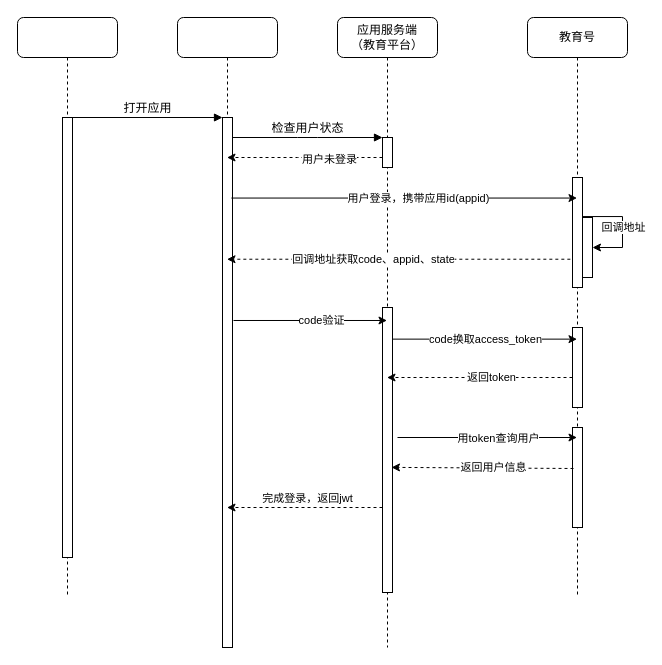
Some shapes in this 662 by 665 pixel diagram are drawn without their labels. The shapes that lost their labels are listed below. From the top down, each one's box as (x1, y1, x2, y2) in pixels, then its label:
(16, 16, 118, 598): 用户
(176, 16, 278, 648): 应用客户端
